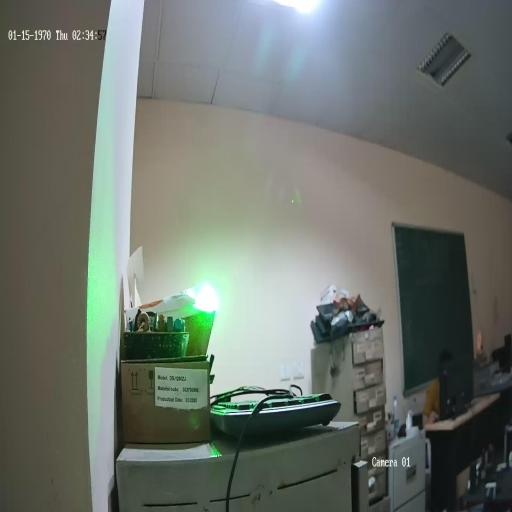laser: (190, 274, 221, 320)
